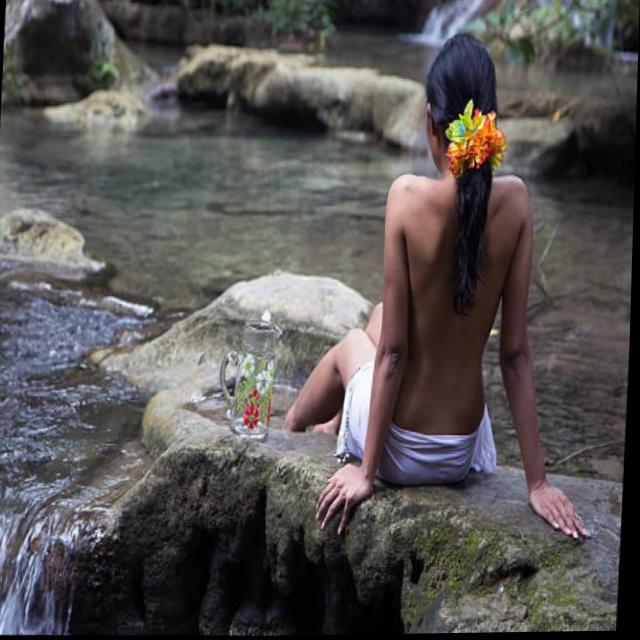no helmet: (410, 25, 511, 217)
